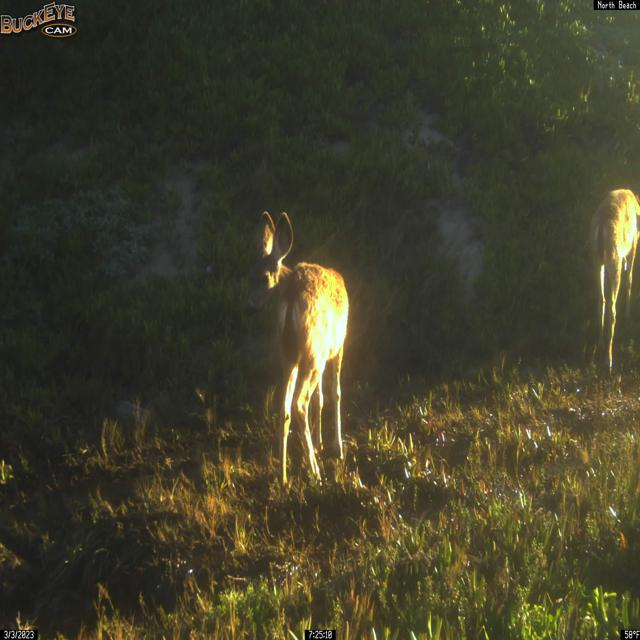deer: (244, 210, 350, 493)
